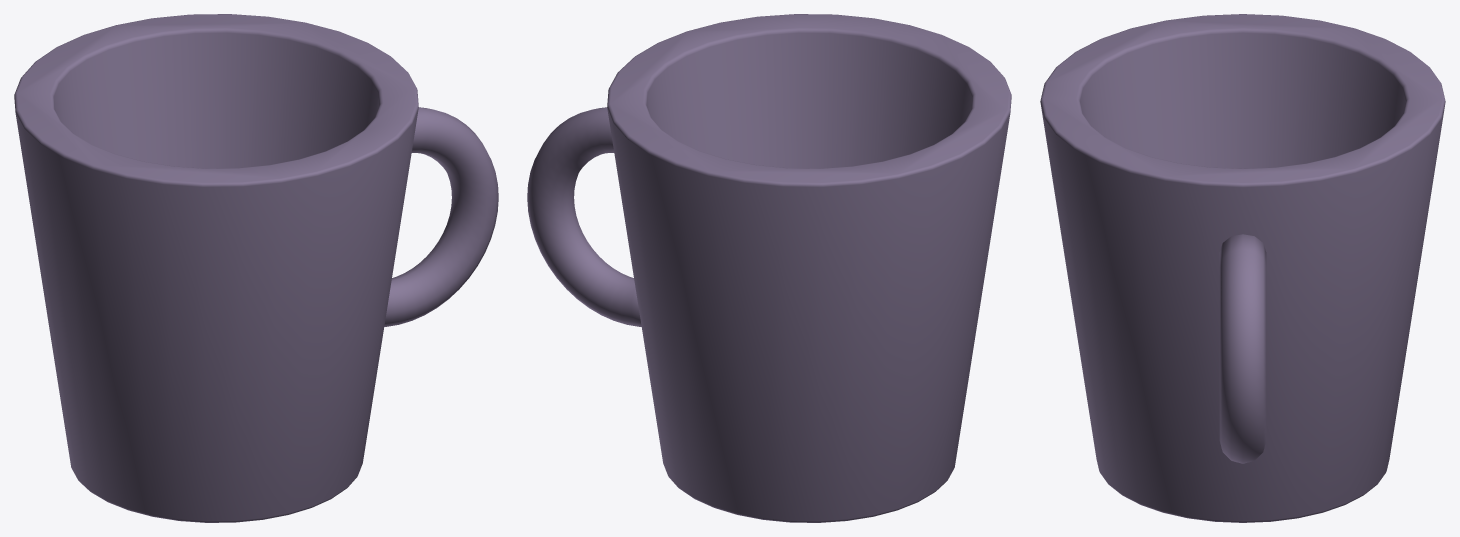
The model's file is kubek4.fbx.
3 views of the same model, side by side, from view 1: azimuth 30°, elevation 25°; view 2: azimuth 150°, elevation 25°; view 3: azimuth 270°, elevation 25° (orthographic).
Visible parts, largest first — view 1: kubek.001, raczka.001; view 2: kubek.001, raczka.001; view 3: kubek.001, raczka.001.
Boxes of the visible parts, x1,y1,x2,y2 form: kubek.001: (14, 14, 418, 522); raczka.001: (384, 107, 498, 326); kubek.001: (607, 14, 1011, 522); raczka.001: (527, 107, 641, 326); kubek.001: (1040, 14, 1445, 522); raczka.001: (1219, 234, 1266, 463).
Size of the model in its own units: 144 by 110 by 111.
